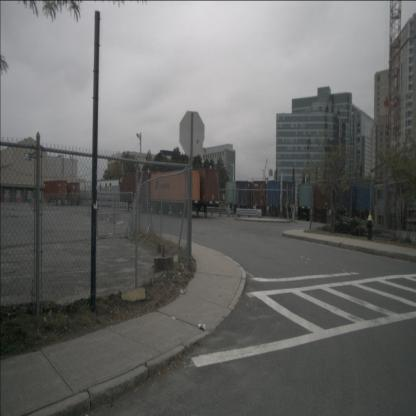vehicle-car: (297, 184, 314, 220)
